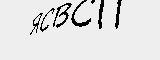Д: (100, 15, 127, 39)
Т: (63, 23, 79, 40)
У: (125, 14, 146, 33)
Ф: (37, 23, 61, 42)
Ю: (76, 19, 104, 40)
Қ: (13, 23, 35, 47)
